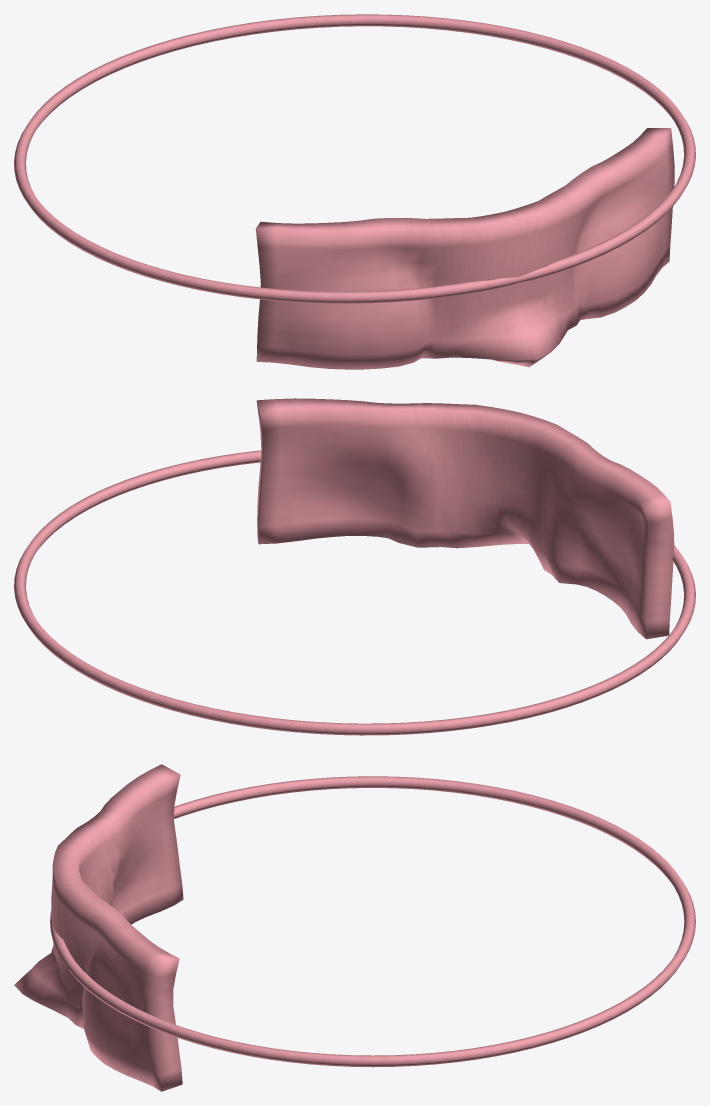
The model's file is restart_mask_sleep_penguin.glb.
3 views of the same model, one above another, from view 1: azimuth 30°, elevation 25°; view 2: azimuth 150°, elevation 25°; view 3: azimuth 270°, elevation 25° (orthographic). The views are drawn at different scales.
Parts seen in each view (by area): view 1: Máscara mullida, Cinta elástica.001; view 2: Máscara mullida, Cinta elástica.001; view 3: Máscara mullida, Cinta elástica.001.
Part boxes in pixels (bbox=[...]): Máscara mullida: bbox=[255, 128, 674, 369]; Cinta elástica.001: bbox=[14, 14, 695, 303]; Máscara mullida: bbox=[256, 398, 674, 639]; Cinta elástica.001: bbox=[14, 450, 695, 735]; Máscara mullida: bbox=[14, 764, 183, 1091]; Cinta elástica.001: bbox=[50, 776, 695, 1067].
Size of the model in its own units: 0.6887 by 0.1561 by 0.6985.
2 materials, 2 textured.
